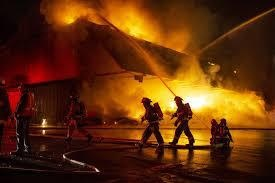fire: (128, 75, 268, 119)
